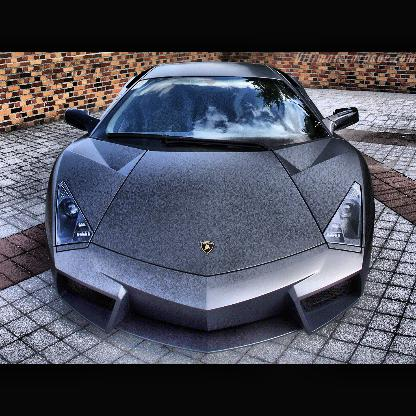Lamborghini Reventon Coupe 2008: (48, 64, 377, 355)
